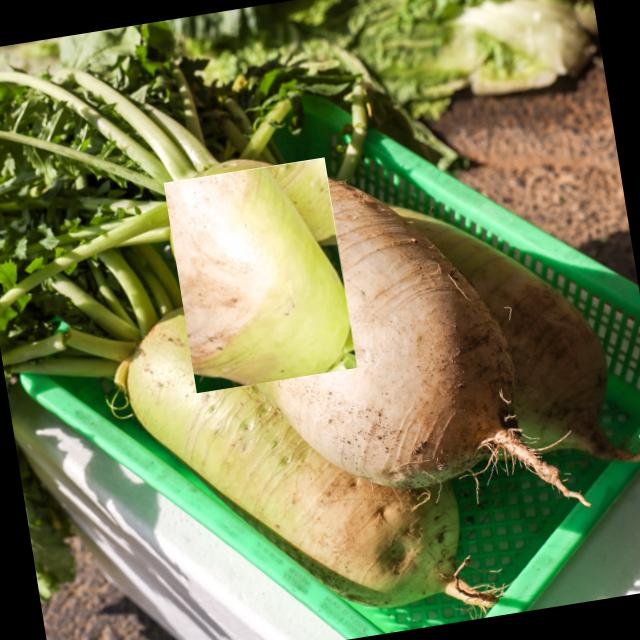radish: (164, 157, 358, 393)
